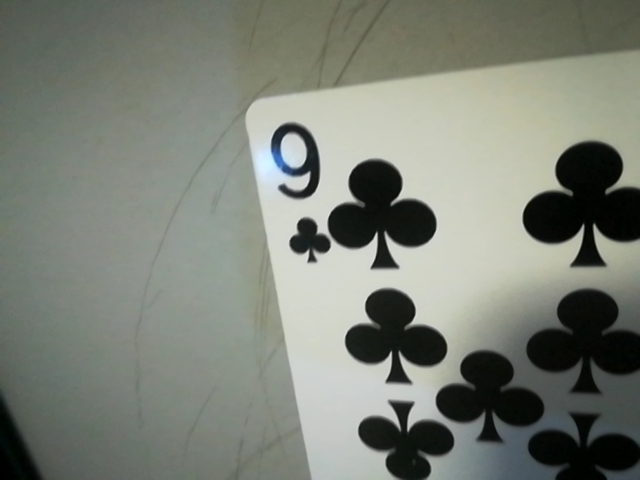mh 9: (262, 109, 333, 271)
